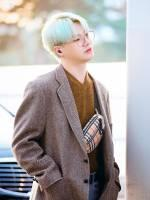earphone: (54, 47, 63, 55)
